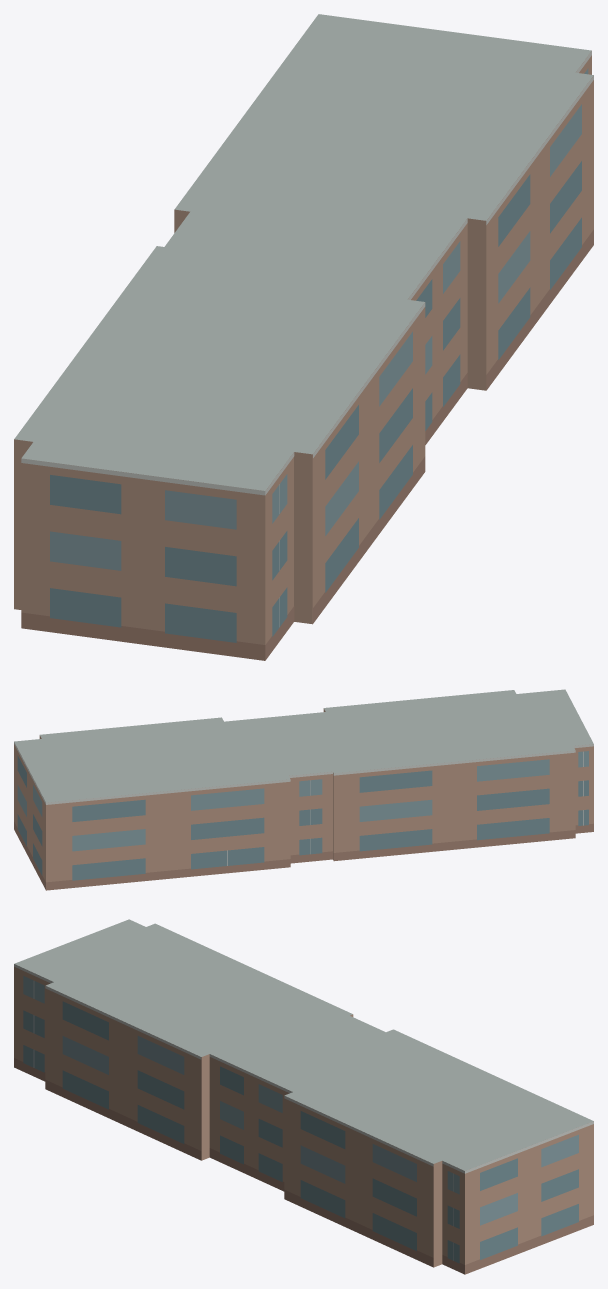
Rendered from survey-upis-32827164.glb.
3 views of the same model, one above another, from view 1: azimuth 30°, elevation 25°; view 2: azimuth 150°, elevation 25°; view 3: azimuth 270°, elevation 25° (orthographic). The views are drawn at different scales.
Visible parts, largest first — view 1: survey-upis-32827164.tmp; view 2: survey-upis-32827164.tmp; view 3: survey-upis-32827164.tmp.
Part boxes in pixels (box(x1,y1,x2,y2)): survey-upis-32827164.tmp: box(14, 14, 593, 660); survey-upis-32827164.tmp: box(14, 689, 593, 890); survey-upis-32827164.tmp: box(14, 919, 593, 1274).
Bounding box in the file's own units: 47.69 × 9.15 × 46.42.
